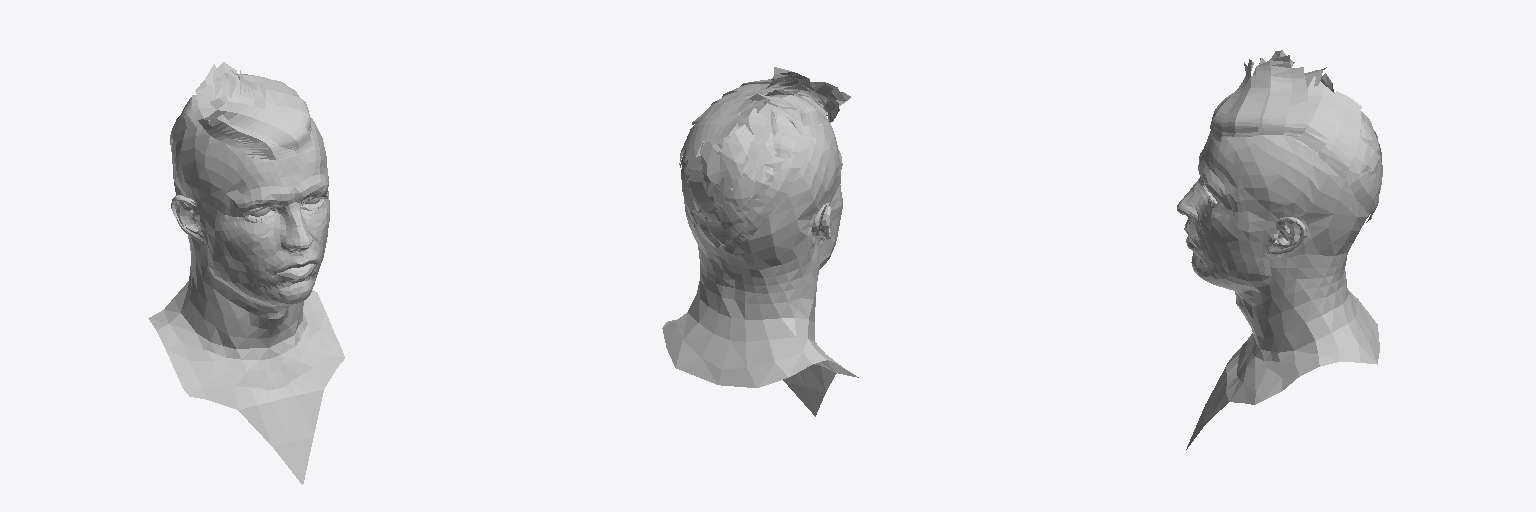
Rendered from Ron_small_2.obj.
The picture shows the model from 3 angles: view 1: azimuth 30°, elevation 25°; view 2: azimuth 150°, elevation 25°; view 3: azimuth 270°, elevation 25°; orthographic projection.
Parts seen in each view (by area): view 1: Ronaldo; view 2: Ronaldo; view 3: Ronaldo.
Boxes of the visible parts, x1=… form: Ronaldo: x1=148, y1=62, x2=344, y2=484; Ronaldo: x1=662, y1=67, x2=858, y2=416; Ronaldo: x1=1177, y1=50, x2=1382, y2=449.
Bounding box in the file's own units: 23.48 × 53.93 × 25.79.